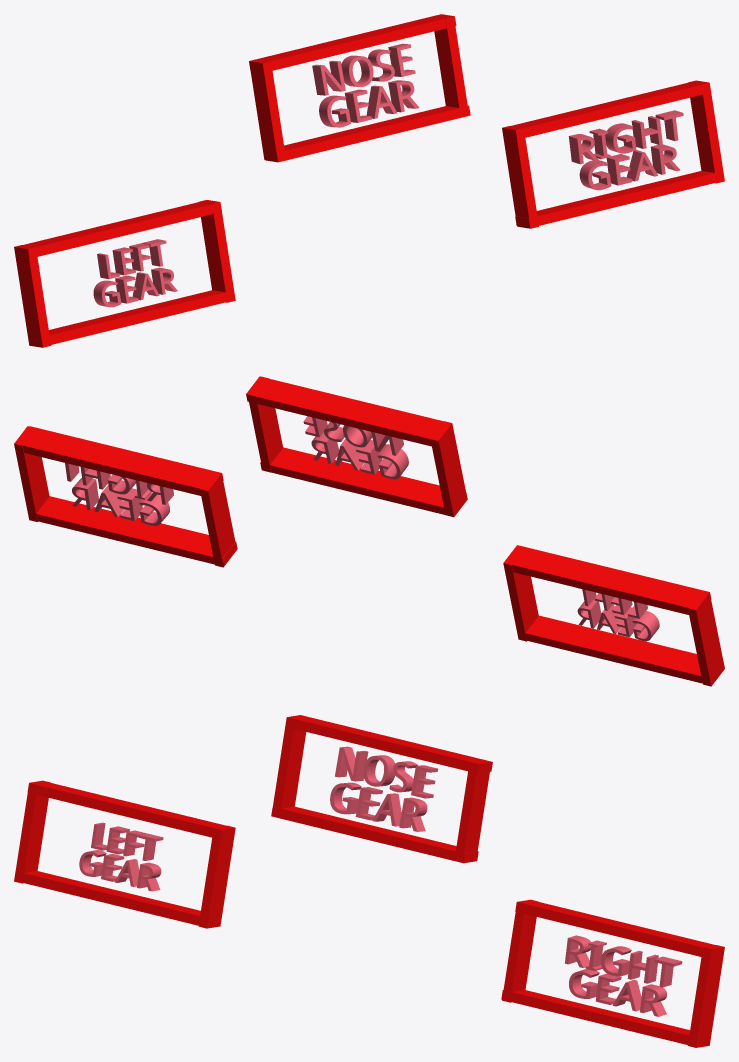
The model's file is 737-gear-up-ind.glb.
3 renders of one model, top to bottom at view 1: azimuth 30°, elevation 25°; view 2: azimuth 150°, elevation 25°; view 3: azimuth 330°, elevation 25°, orthographic.
Visible parts, largest first — view 1: Box (×12), Mesh_Mesh_head_geo001_lambert2SG001 (×3); view 2: Box (×12), Mesh_Mesh_head_geo001_lambert2SG001 (×3); view 3: Box (×12), Mesh_Mesh_head_geo001_lambert2SG001 (×3).
Boxes of the visible parts, x1=… form: Box (×12): x1=14, y1=14, x2=724, y2=347; Mesh_Mesh_head_geo001_lambert2SG001 (×3): x1=93, y1=43, x2=683, y2=307; Box (×12): x1=14, y1=376, x2=724, y2=686; Mesh_Mesh_head_geo001_lambert2SG001 (×3): x1=65, y1=416, x2=659, y2=641; Box (×12): x1=14, y1=715, x2=724, y2=1047; Mesh_Mesh_head_geo001_lambert2SG001 (×3): x1=79, y1=746, x2=682, y2=1016.
Size of the model in its own units: 0.0902 by 0.0269 by 0.00922.
